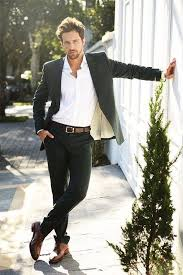F_M_suit jacket: (30, 53, 166, 143)
F_belt: (40, 114, 96, 141)
F_dress pants: (30, 136, 95, 242)
